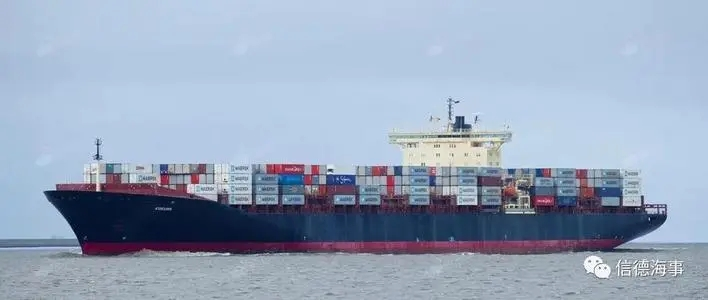Cargoship: (40, 96, 669, 262)
